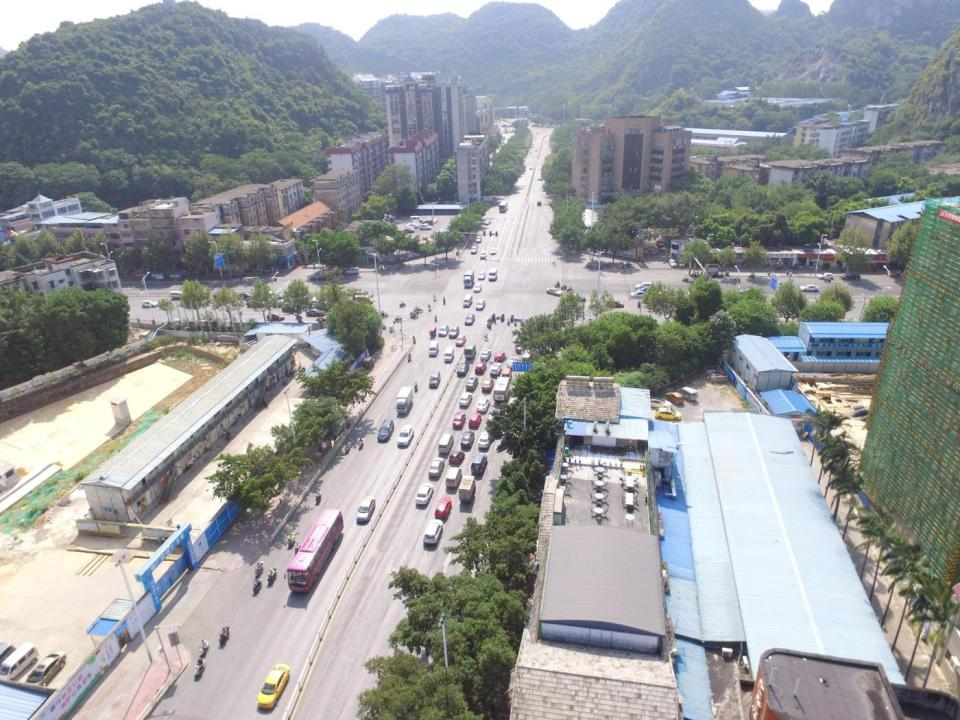bus: (284, 510, 343, 593), (493, 374, 512, 401), (428, 340, 438, 356), (463, 294, 472, 307), (500, 200, 508, 211)
car: (21, 652, 68, 693), (256, 664, 290, 709), (356, 495, 376, 522), (423, 519, 443, 545), (414, 483, 434, 505), (376, 419, 394, 442), (398, 424, 414, 448), (654, 407, 682, 420), (646, 396, 672, 410), (434, 497, 452, 517), (429, 457, 445, 476), (460, 431, 475, 448), (452, 412, 466, 430), (488, 411, 499, 433), (475, 397, 490, 413), (448, 450, 466, 463), (666, 391, 684, 404), (468, 413, 482, 428), (306, 307, 324, 318), (265, 311, 284, 321), (465, 376, 479, 389), (460, 391, 472, 406), (479, 431, 490, 447), (797, 284, 819, 292), (482, 378, 494, 391), (843, 272, 862, 280), (456, 362, 468, 374), (606, 300, 624, 308), (449, 325, 460, 338), (490, 362, 501, 375), (246, 299, 266, 306), (237, 293, 259, 299), (480, 349, 491, 361), (629, 290, 651, 296), (495, 351, 505, 364), (506, 356, 516, 369), (637, 286, 653, 294), (476, 361, 485, 375), (636, 282, 654, 289), (273, 296, 287, 304), (464, 314, 474, 325), (456, 335, 466, 346), (475, 299, 485, 310), (141, 301, 159, 307), (819, 272, 834, 279), (438, 326, 448, 336), (474, 282, 482, 293), (668, 258, 677, 267), (470, 244, 478, 254), (478, 271, 486, 280), (429, 324, 436, 334), (741, 287, 754, 292), (656, 240, 664, 248), (491, 247, 496, 255), (476, 235, 481, 242), (486, 218, 490, 225), (536, 201, 542, 204), (528, 167, 532, 170)
van: (0, 642, 37, 683), (395, 386, 413, 416), (458, 475, 476, 501), (676, 386, 698, 403), (437, 433, 454, 454), (446, 466, 462, 488), (472, 452, 487, 473), (462, 269, 475, 288), (428, 370, 441, 387), (263, 289, 282, 300), (170, 290, 189, 300), (355, 295, 373, 304), (444, 346, 454, 362), (464, 344, 475, 358), (351, 292, 368, 300), (345, 266, 360, 274), (488, 268, 496, 282), (504, 366, 512, 379), (677, 256, 686, 267), (420, 224, 431, 230), (409, 216, 422, 221), (479, 250, 486, 258)
